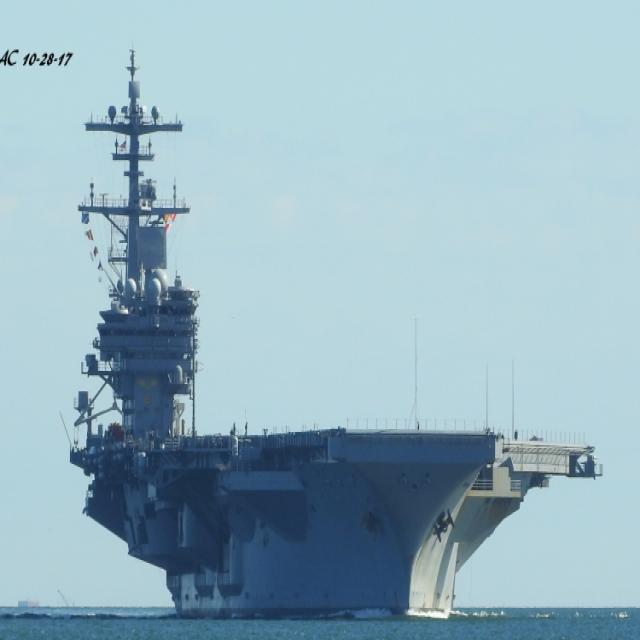Portanaves: (59, 48, 604, 635)
